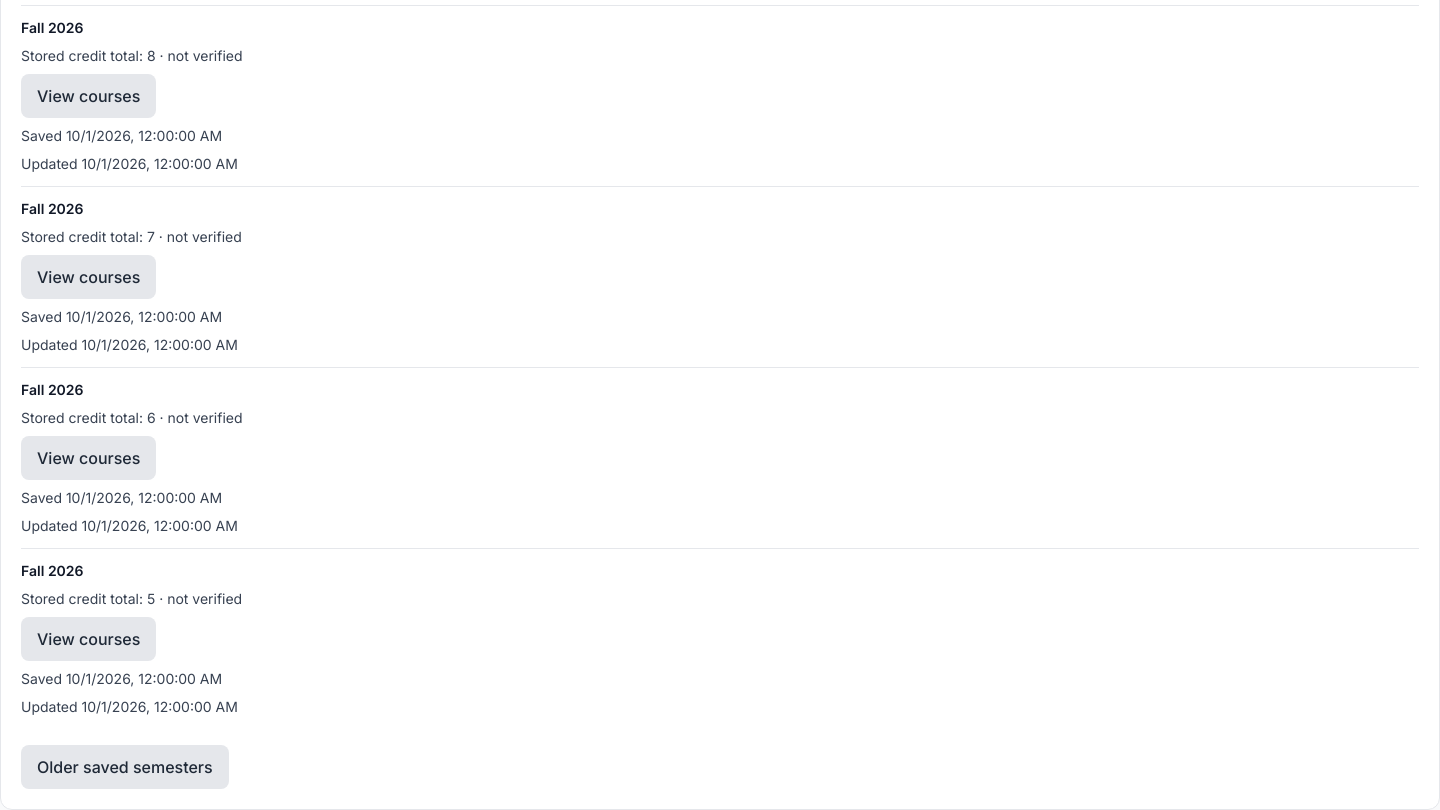
Test: saved plan semester references › browses older storage metadata and reloads the latest page
(page scrolled)
Click the button "Older saved semesters". click: click(125, 767)
box: left=21, top=745, right=229, bottom=789
(page scrolled)
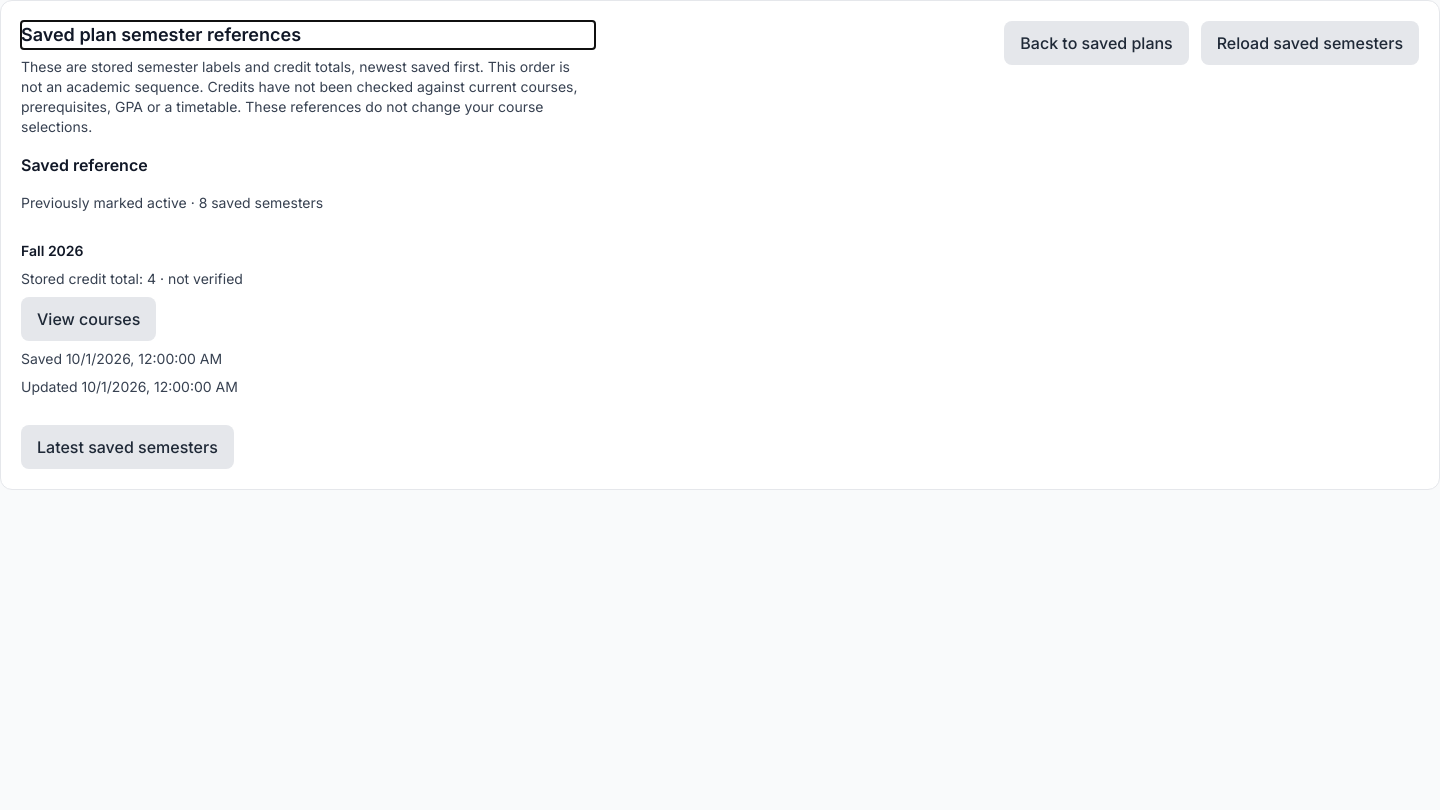
Result: the text "Stored credit total: 4 · not verified" is shown at left=21, top=270, right=243, bottom=287
Click the button "Latest saved semesters". click: click(127, 447)
box: left=21, top=425, right=234, bottom=469
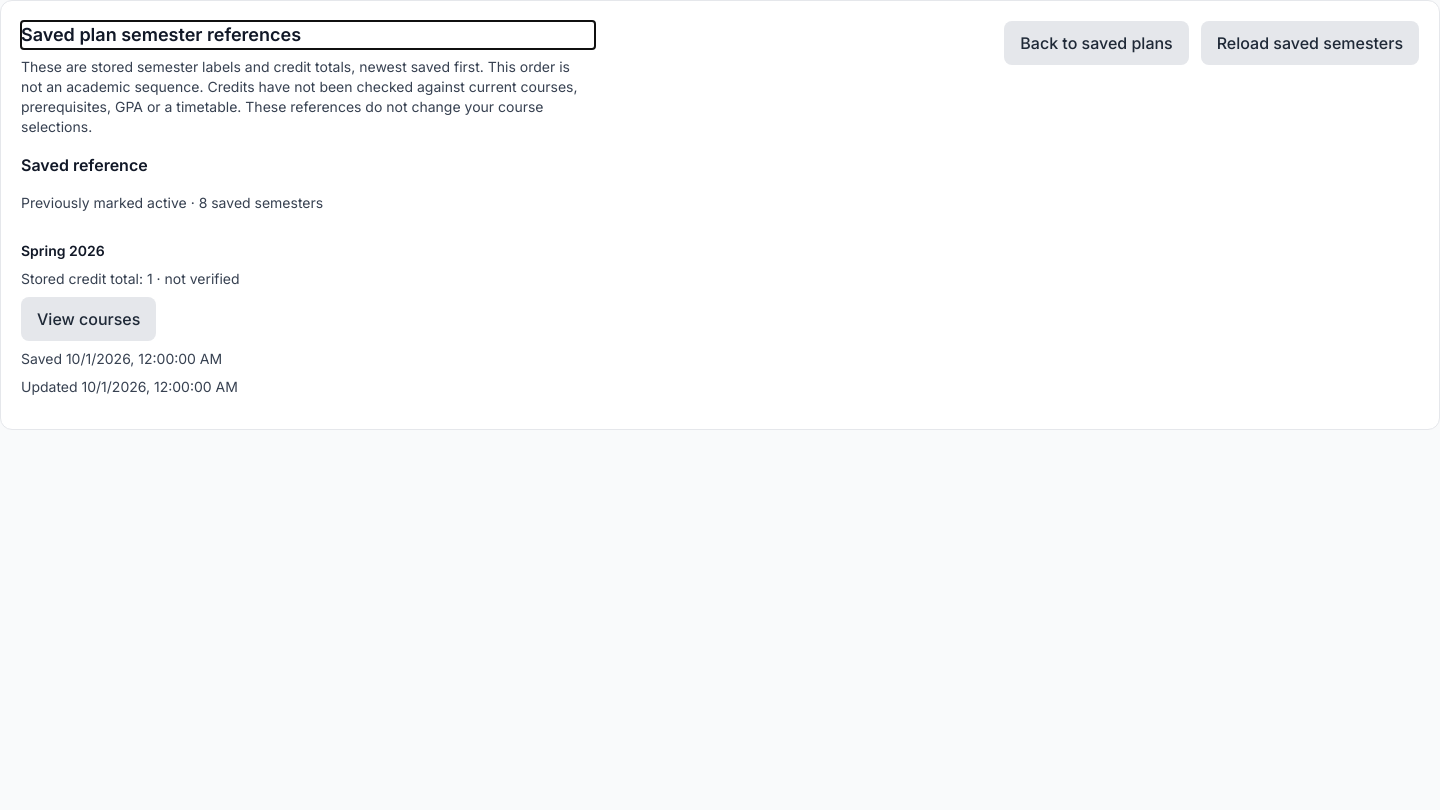
Result: the text "Stored credit total: 1 · not verified" is shown at left=21, top=270, right=240, bottom=287
